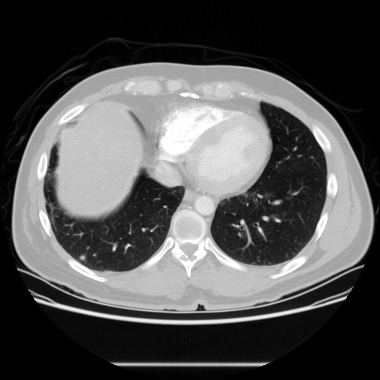nodule: (79, 254, 85, 260)
